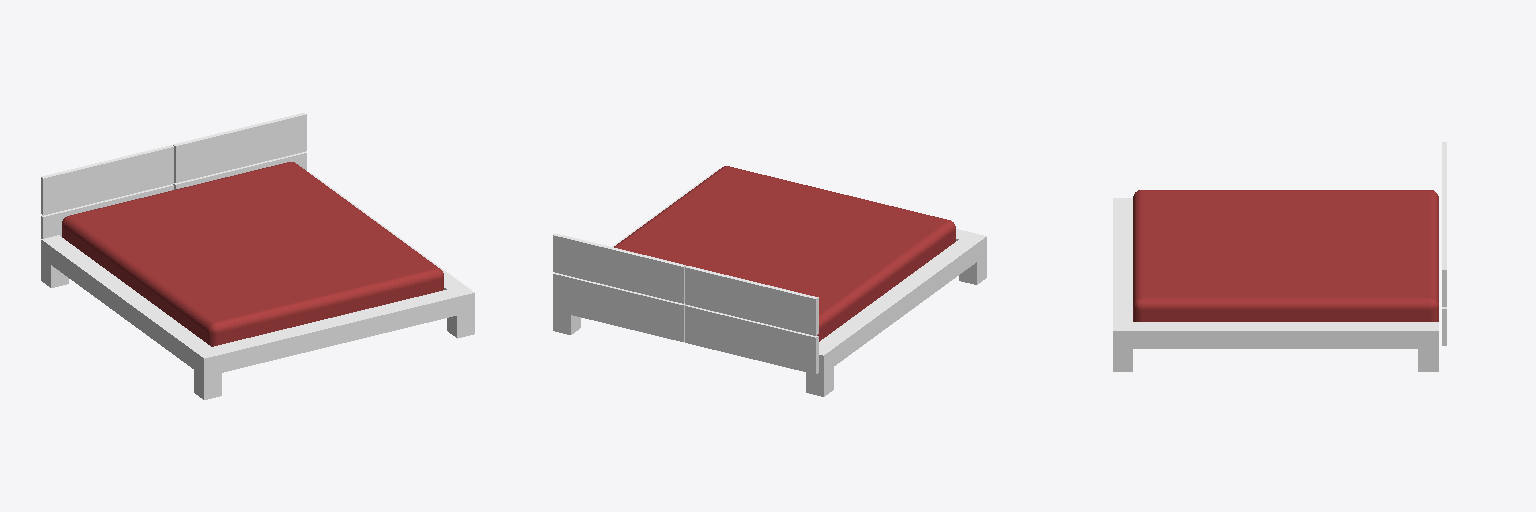
File: letto.obj
3 renders of one model, left to right at view 1: azimuth 30°, elevation 25°; view 2: azimuth 150°, elevation 25°; view 3: azimuth 270°, elevation 25°, orthographic.
Parts seen in each view (by area): view 1: ChamferBox02_1, Line21_7, Box49_9, Box46_5, Box45_4, Box50_10, Box44_3, Box47_6; view 2: ChamferBox02_1, Line21_7, Box46_5, Box49_9, Box45_4, Box50_10, Box43_2; view 3: ChamferBox02_1, Line21_7.
Part boxes in pixels (bbox=[...]): ChamferBox02_1: bbox=[62, 162, 443, 346]; Line21_7: bbox=[41, 173, 474, 376]; Box49_9: bbox=[173, 113, 306, 182]; Box46_5: bbox=[41, 145, 173, 215]; Box45_4: bbox=[41, 184, 173, 238]; Box50_10: bbox=[173, 152, 306, 189]; Box44_3: bbox=[194, 370, 221, 399]; Box47_6: bbox=[447, 311, 474, 338]; ChamferBox02_1: bbox=[614, 166, 955, 341]; Line21_7: bbox=[612, 170, 986, 373]; Box46_5: bbox=[685, 266, 818, 335]; Box49_9: bbox=[553, 233, 685, 303]; Box45_4: bbox=[685, 305, 818, 374]; Box50_10: bbox=[553, 272, 685, 341]; Box43_2: bbox=[806, 367, 833, 396]; ChamferBox02_1: bbox=[1133, 190, 1438, 321]; Line21_7: bbox=[1113, 198, 1438, 348].
Size of the model in its own units: 184 by 65 by 197.